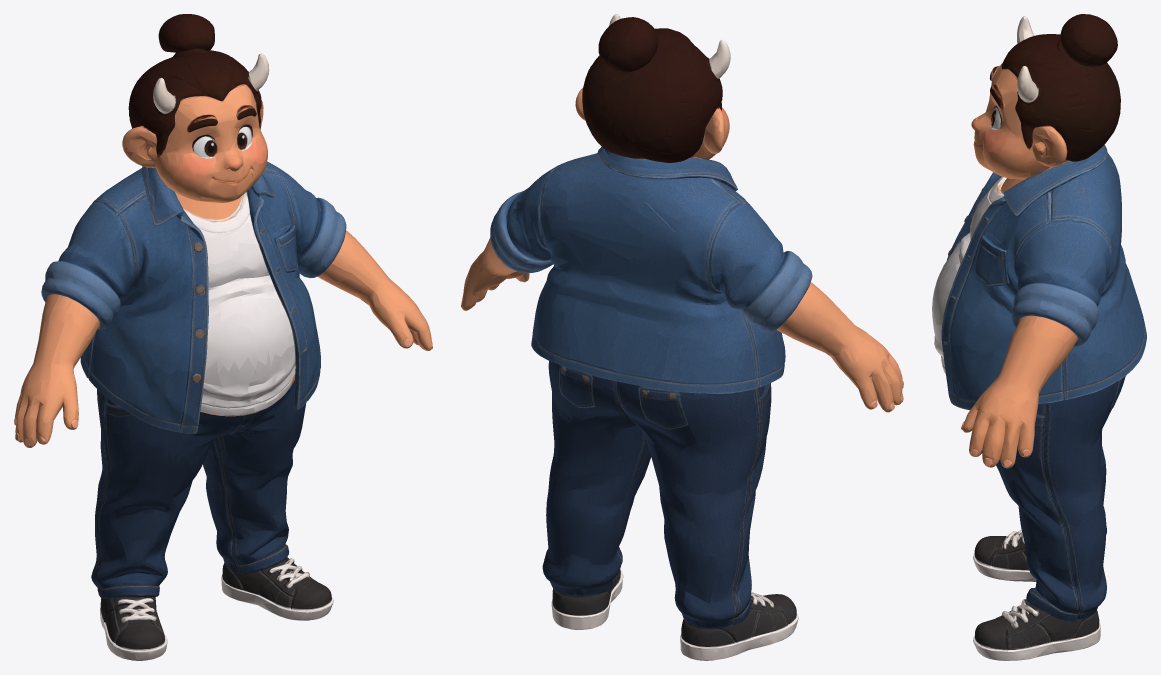
File: sumo.glb
3 renders of one model, left to right at view 1: azimuth 30°, elevation 25°; view 2: azimuth 150°, elevation 25°; view 3: azimuth 270°, elevation 25°, orthographic. The views are drawn at different scales.
Parts seen in each view (by area): view 1: Mesh_0; view 2: Mesh_0; view 3: Mesh_0.
Boxes of the visible parts, <box> form: Mesh_0: <box>14,14,432,660</box>; Mesh_0: <box>461,14,903,660</box>; Mesh_0: <box>932,14,1146,660</box>.
Size of the model in its own units: 1.39 by 1.9 by 0.6227.
Materials: 1 (1 with a texture image).
